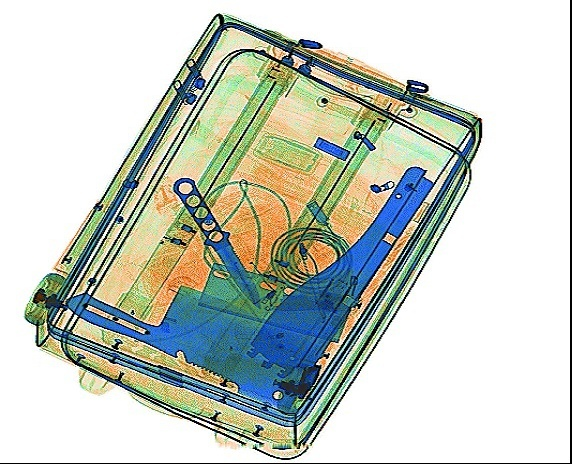knife: (62, 289, 331, 417), (171, 171, 265, 309)
